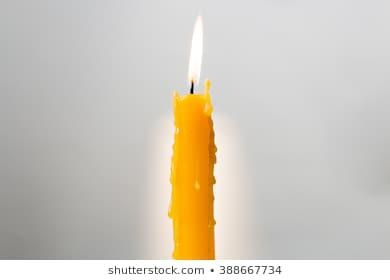fire: (186, 14, 204, 84)
